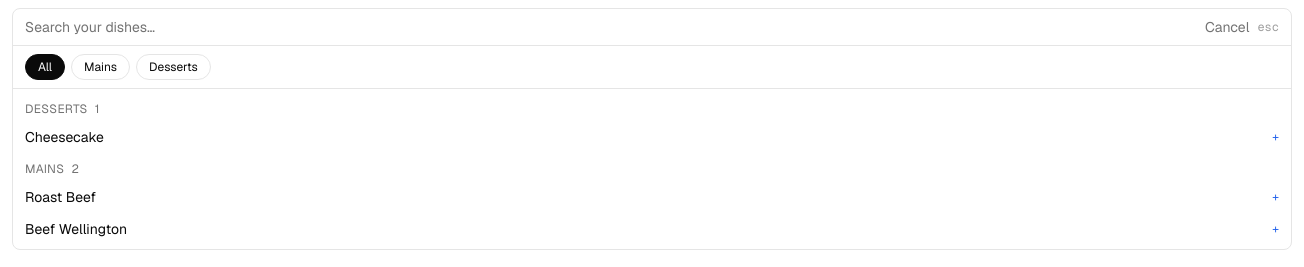
Test: DishPickerInline › search filters by name and says so when nothing matches
Type "beef" into the field labelled "Search your dishes" at (611, 27), box [25,17,1197,37]
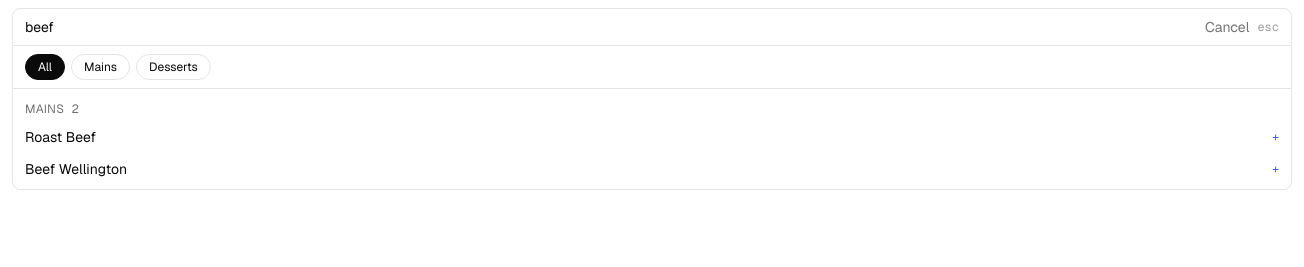
Expected: the button labelled "Roast Beef +" is shown, [13,121,1291,153]
Result: the button labelled "Cheesecake" is gone
Replace the text in the field named "Search your dishes" with "zzz" at (611, 27), box [25,17,1197,37]
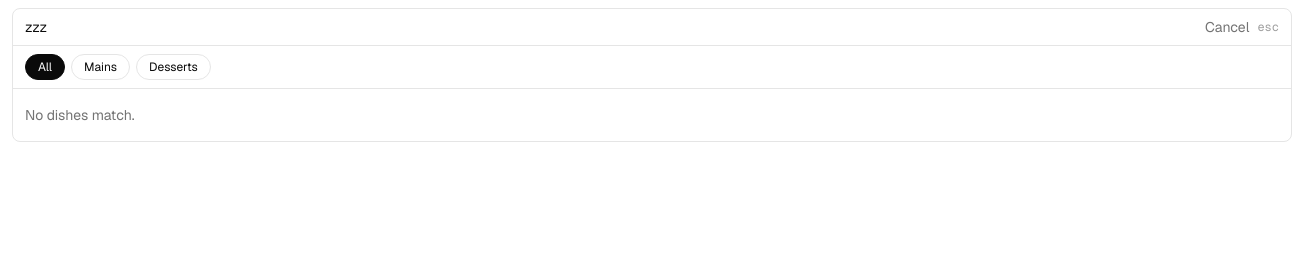
Result: the text "No dishes match." is shown at [25,106,135,124]
